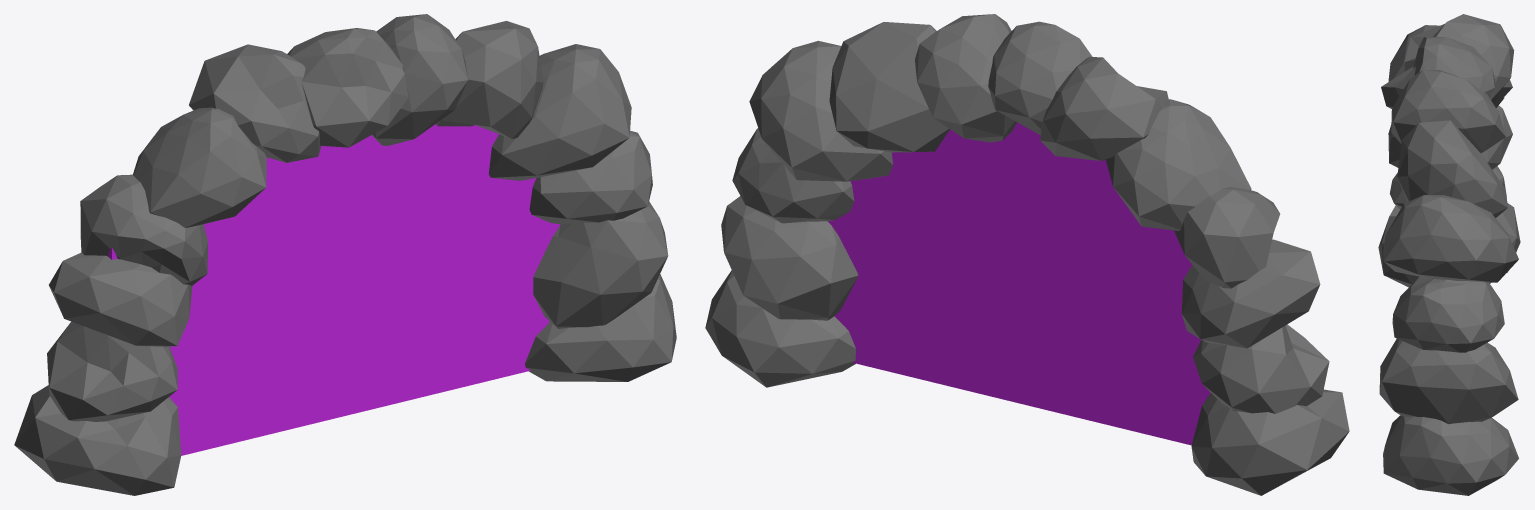
File: portal.fbx
3 views of the same model, side by side, from view 1: azimuth 30°, elevation 25°; view 2: azimuth 150°, elevation 25°; view 3: azimuth 270°, elevation 25° (orthographic). The views are drawn at different scales.
Parts seen in each view (by area): view 1: Portal, Stone.005, Stone.002, Stone.001, Stone.009, Stone.012, Stone.011, Stone.006, Stone.003, Stone, Stone.007, Stone.008 (+2 smaller); view 2: Portal, Stone.002, Stone.008, Stone.001, Stone.005, Stone.009, Stone, Stone.006, Stone.010, Stone.011, Stone.003, Stone.007 (+2 smaller); view 3: Stone.005, Stone.002, Stone, Stone.004, Stone.008, Stone.010, Stone.012, Stone.011, Stone.001, Stone.006, Stone.009, Stone.003.
Boxes of the visible parts, x1=… form: Portal: x1=107, y1=124, x2=560, y2=455; Stone.005: x1=488, y1=44, x2=631, y2=180; Stone.002: x1=533, y1=201, x2=668, y2=328; Stone.001: x1=14, y1=385, x2=181, y2=495; Stone.009: x1=133, y1=107, x2=266, y2=227; Stone.012: x1=287, y1=28, x2=408, y2=147; Stone.011: x1=189, y1=44, x2=321, y2=162; Stone.006: x1=49, y1=252, x2=192, y2=347; Stone.003: x1=47, y1=321, x2=177, y2=421; Stone: x1=525, y1=274, x2=676, y2=381; Stone.007: x1=80, y1=174, x2=208, y2=285; Stone.008: x1=436, y1=21, x2=543, y2=138; Portal: x1=828, y1=122, x2=1210, y2=445; Stone.002: x1=721, y1=196, x2=858, y2=320; Stone.008: x1=829, y1=22, x2=949, y2=152; Stone.001: x1=1191, y1=389, x2=1349, y2=495; Stone.005: x1=749, y1=40, x2=892, y2=181; Stone.009: x1=1105, y1=99, x2=1251, y2=230; Stone: x1=705, y1=270, x2=855, y2=387; Stone.006: x1=1181, y1=239, x2=1320, y2=348; Stone.010: x1=915, y1=14, x2=1016, y2=142; Stone.011: x1=1040, y1=56, x2=1168, y2=160; Stone.003: x1=1193, y1=324, x2=1329, y2=413; Stone.007: x1=1174, y1=187, x2=1280, y2=288; Stone.005: x1=1383, y1=195, x2=1518, y2=282; Stone.002: x1=1379, y1=338, x2=1518, y2=424; Stone: x1=1383, y1=415, x2=1518, y2=495; Stone.004: x1=1392, y1=276, x2=1504, y2=352; Stone.008: x1=1397, y1=120, x2=1507, y2=217; Stone.010: x1=1391, y1=70, x2=1505, y2=153; Stone.012: x1=1381, y1=36, x2=1495, y2=108; Stone.011: x1=1404, y1=14, x2=1514, y2=100; Stone.001: x1=1378, y1=203, x2=1520, y2=287; Stone.006: x1=1388, y1=105, x2=1512, y2=169; Stone.009: x1=1388, y1=25, x2=1512, y2=106; Stone.003: x1=1389, y1=166, x2=1506, y2=209.
Size of the model in its own units: 23.65 by 14.42 by 5.5.
